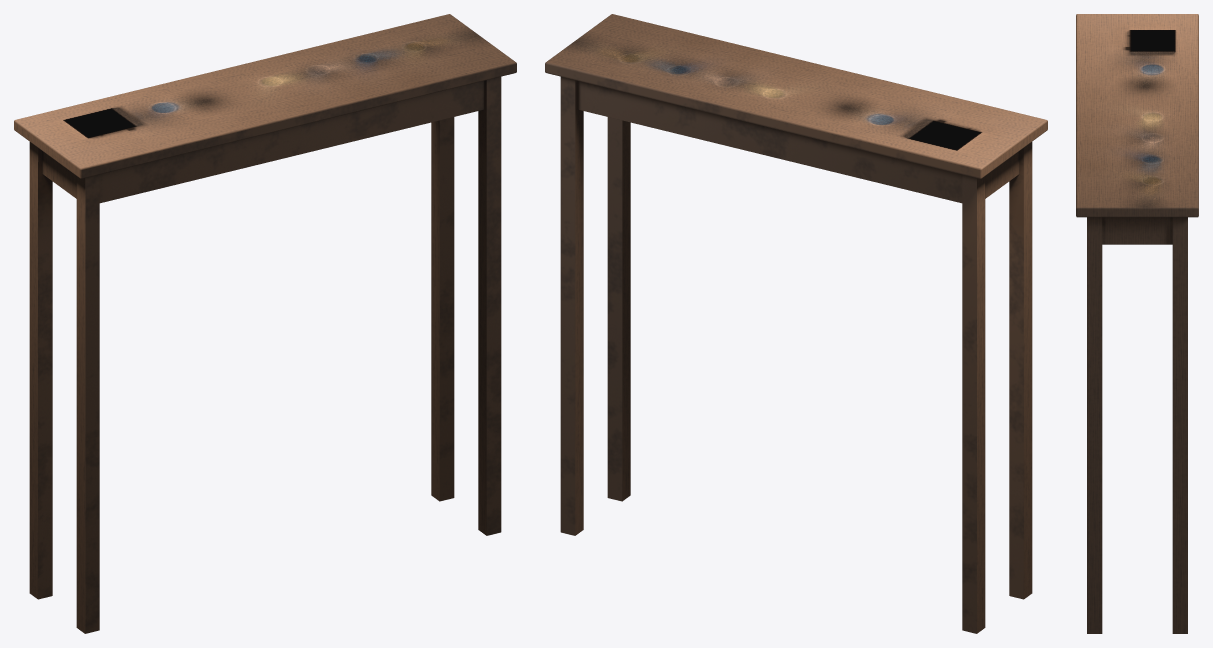
The model's file is 507_hook.glb.
3 views of the same model, side by side, from view 1: azimuth 30°, elevation 25°; view 2: azimuth 150°, elevation 25°; view 3: azimuth 270°, elevation 25° (orthographic). The views are drawn at different scales.
Visible parts, largest first — view 1: Table; view 2: Table; view 3: Table.
Part boxes in pixels (x1=…): Table: x1=14, y1=14, x2=516, y2=633; Table: x1=545, y1=14, x2=1047, y2=633; Table: x1=1076, y1=14, x2=1198, y2=633.
Size of what is drawn, in the model's own units: 3 by 3.1 by 0.8.
Materials: 1 (1 with a texture image).
